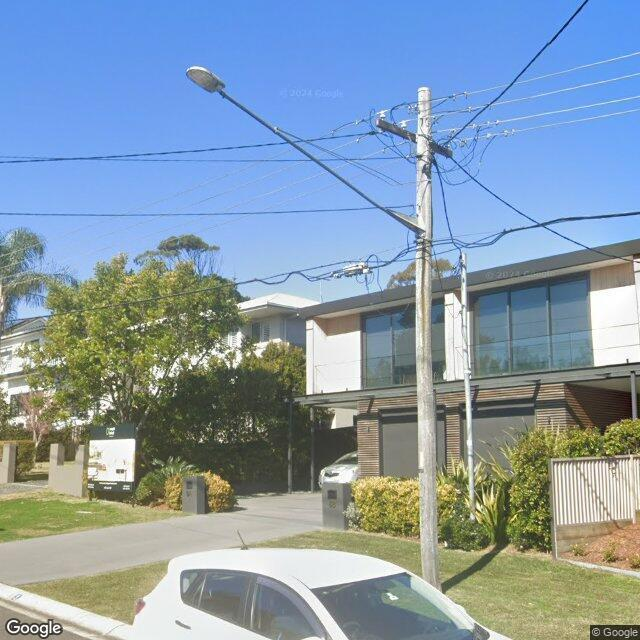crossarm: (375, 118, 454, 160)
steel-pole: (460, 252, 475, 520)
streetlight: (184, 65, 424, 234)
timber-pole: (416, 87, 441, 591)
